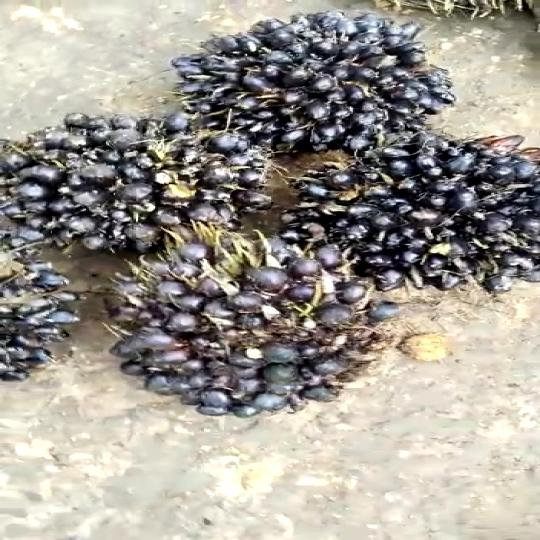mentah: (93, 223, 412, 434), (260, 132, 540, 320), (157, 6, 454, 164), (0, 101, 265, 249)
